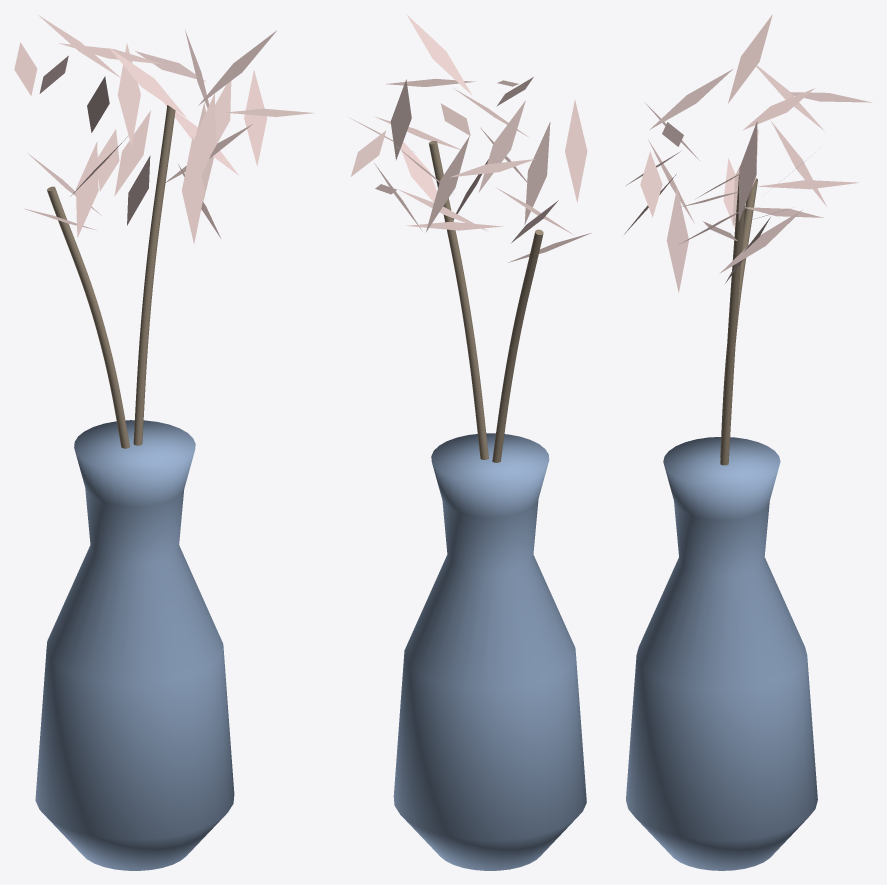
File: vase_tall.glb
The picture shows the model from 3 angles, left to right: view 1: azimuth 30°, elevation 25°; view 2: azimuth 150°, elevation 25°; view 3: azimuth 270°, elevation 25°; orthographic projection. The views are drawn at different scales.
Parts seen in each view (by area): view 1: vase, blooms, stem1, stem2; view 2: vase, blooms, stem1, stem2; view 3: vase, blooms, stem1, stem2.
Part boxes in pixels (x1,y1,x2,y2): vase: (35,420,234,870); blooms: (14,14,314,244); stem1: (133,105,175,445); stem2: (47,186,129,448); vase: (393,433,586,870); blooms: (348,15,591,262); stem1: (428,141,488,459); stem2: (492,229,543,462); vase: (626,437,817,870); blooms: (624,14,872,292); stem1: (720,174,745,465); stem2: (720,178,757,457).
Size of the model in its own units: 0.2655 by 0.828 by 0.235.
